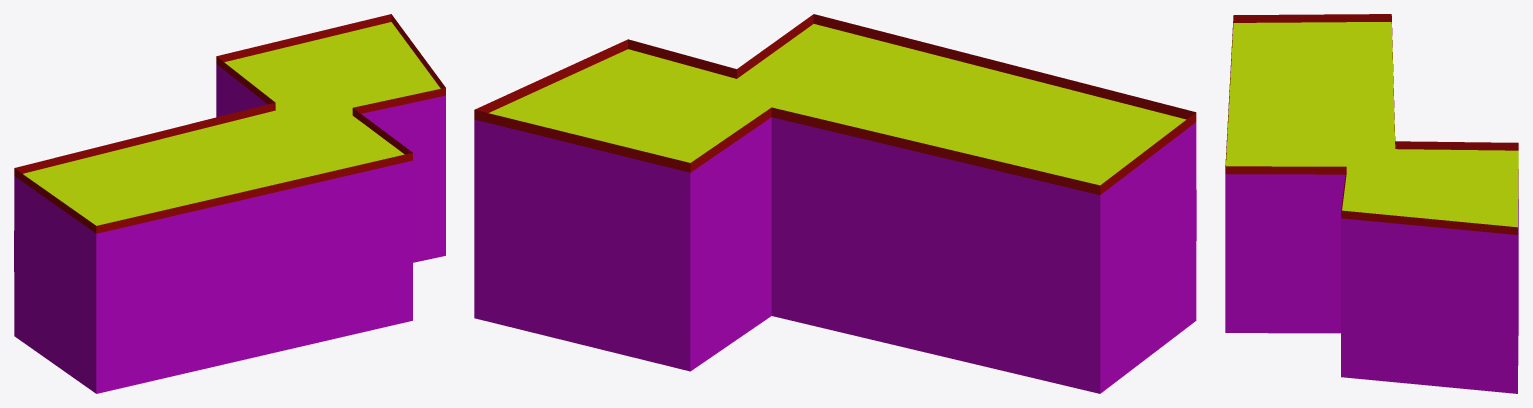
The model's file is rmc_108.glb.
The picture shows the model from 3 angles, left to right: view 1: azimuth 30°, elevation 25°; view 2: azimuth 150°, elevation 25°; view 3: azimuth 270°, elevation 25°; orthographic projection. The views are drawn at different scales.
Parts seen in each view (by area): view 1: rmc_108; view 2: rmc_108; view 3: rmc_108.
Part boxes in pixels (left/top/right/bottom): rmc_108: left=14, top=14, right=445, bottom=393; rmc_108: left=474, top=14, right=1196, bottom=393; rmc_108: left=1225, top=14, right=1518, bottom=393.
Size of the model in its own units: 20.45 by 7.45 by 11.89.
